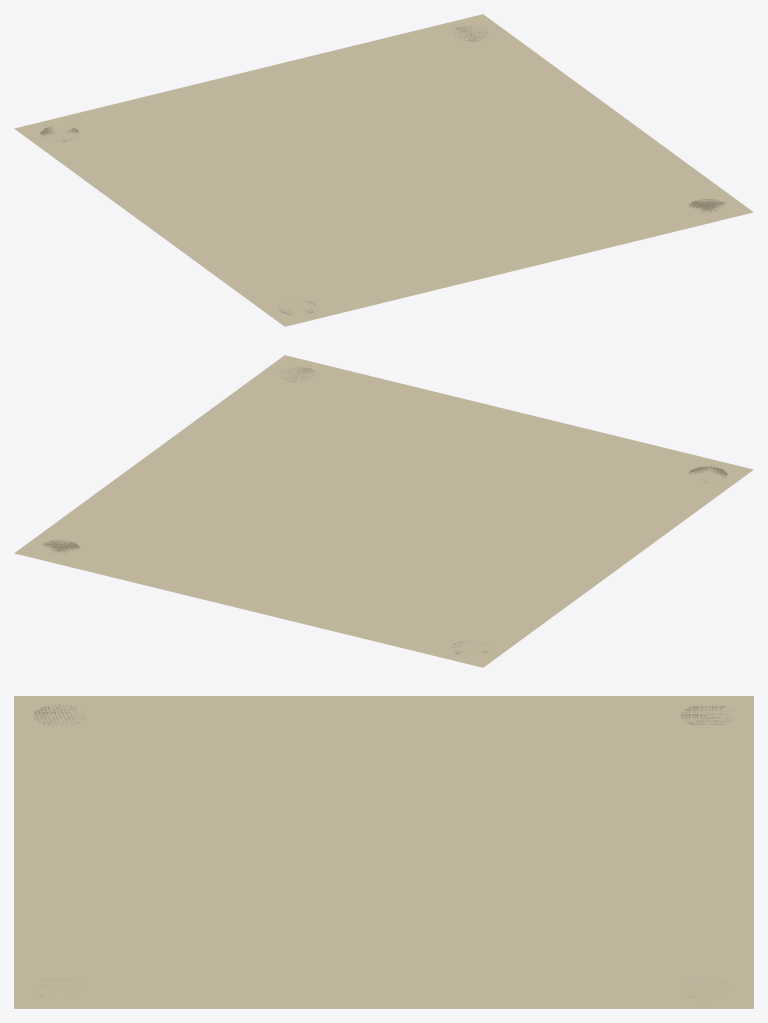
File: ceiling_arms@1.glb
The picture shows the model from 3 angles, top to bottom: view 1: azimuth 30°, elevation 25°; view 2: azimuth 150°, elevation 25°; view 3: azimuth 270°, elevation 25°; orthographic projection. The views are drawn at different scales.
Visible parts, largest first — view 1: wappen; view 2: wappen; view 3: wappen.
Boxes of the visible parts, bbox=[...] form: wappen: bbox=[14, 14, 753, 326]; wappen: bbox=[14, 355, 753, 667]; wappen: bbox=[14, 696, 753, 1008].
Size of the model in its own units: 1.6 by 0.022 by 1.6.
